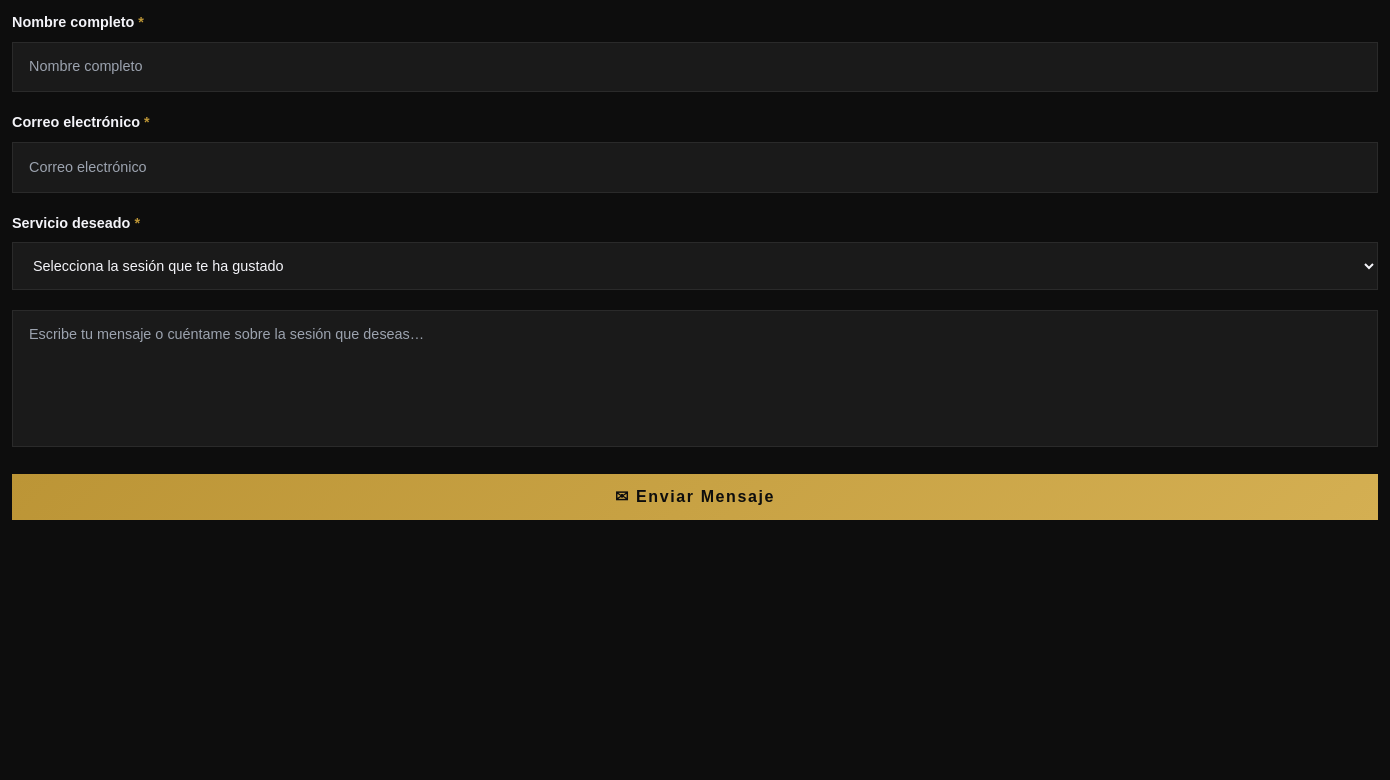
Test case: ContactForm › submits the form when input is valid
Type "Grettel" into the field labelled "Nombre completo *".
click(695, 67); type("Grettel")  # box [12,42,1378,92]
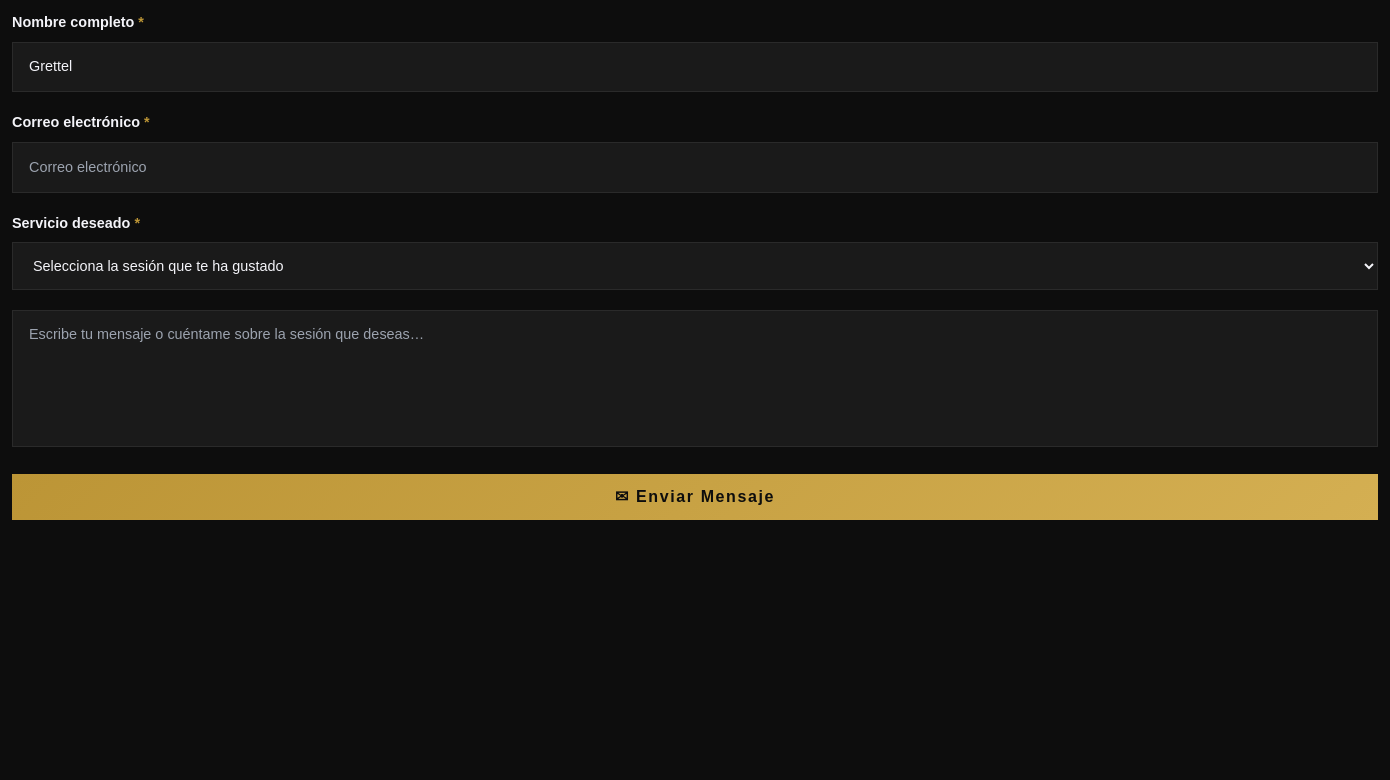
Type "test@example.com" into the field labelled "Correo electrónico *".
click(695, 167); type("test@example.com")  # box [12,142,1378,193]
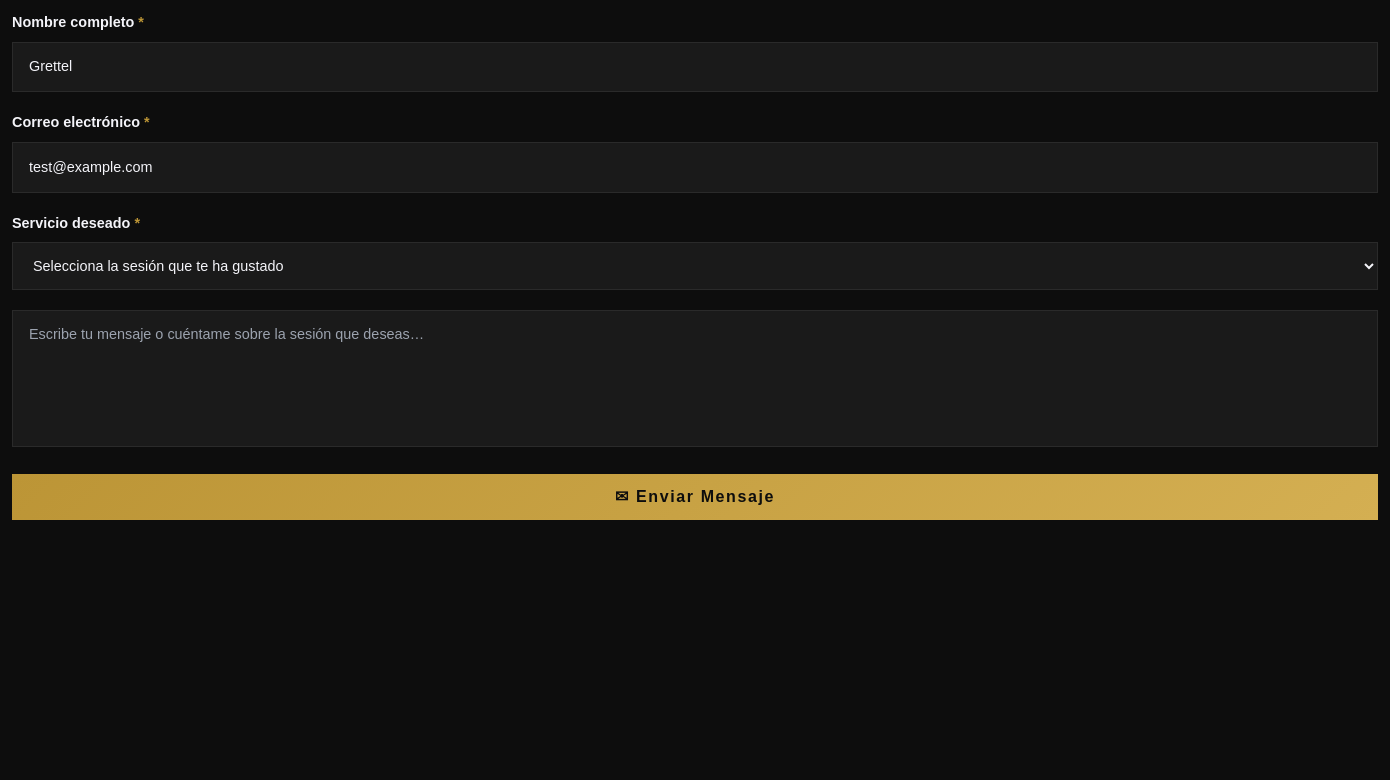
Select "Boudoir & Artístico" in the dropdown labelled "Servicio deseado *" at (695, 266), box [12,242,1378,290]
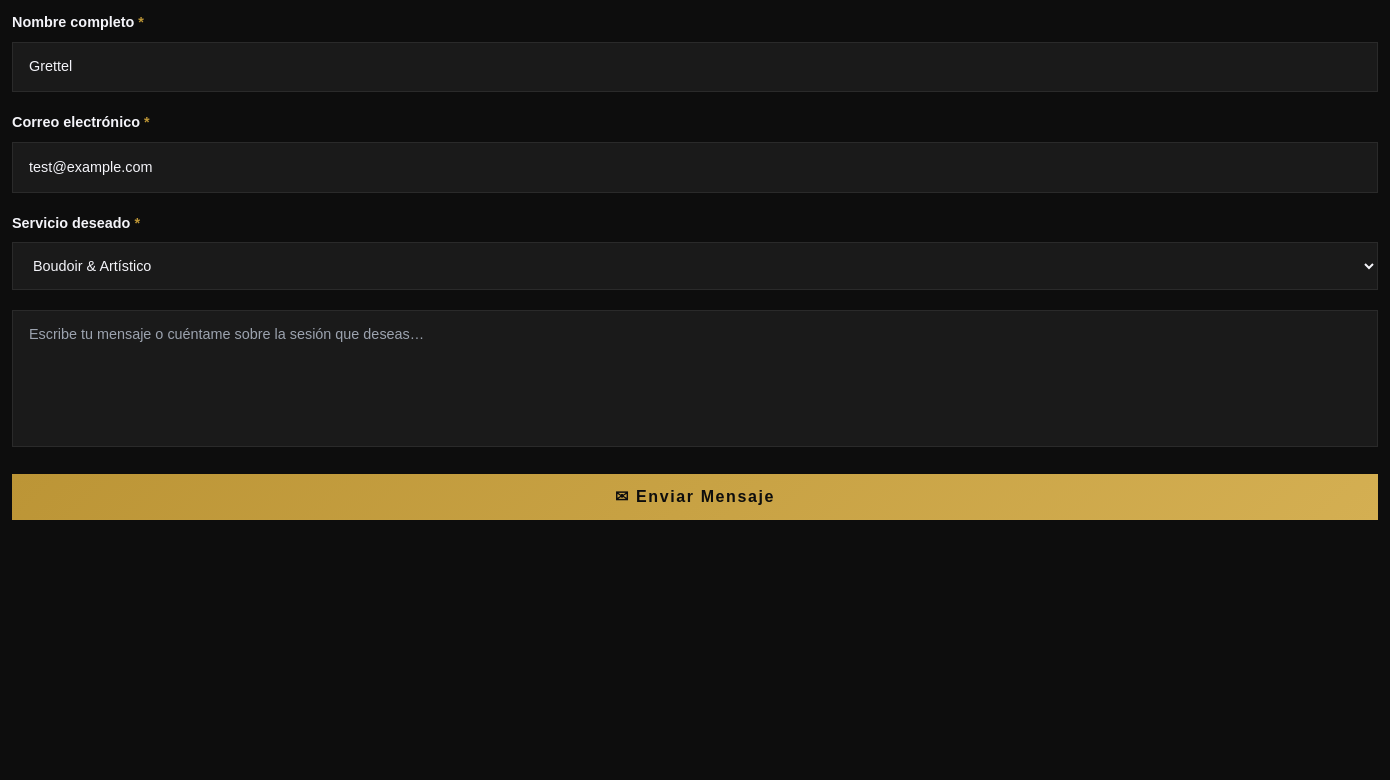
Type "Hola, quiero reservar una sesión." into the text box with placeholder "Escribe tu mensaje o cuéntame sobre la sesión que deseas…".
click(695, 378); type("Hola, quiero reservar una sesión.")  # box [12,310,1378,447]
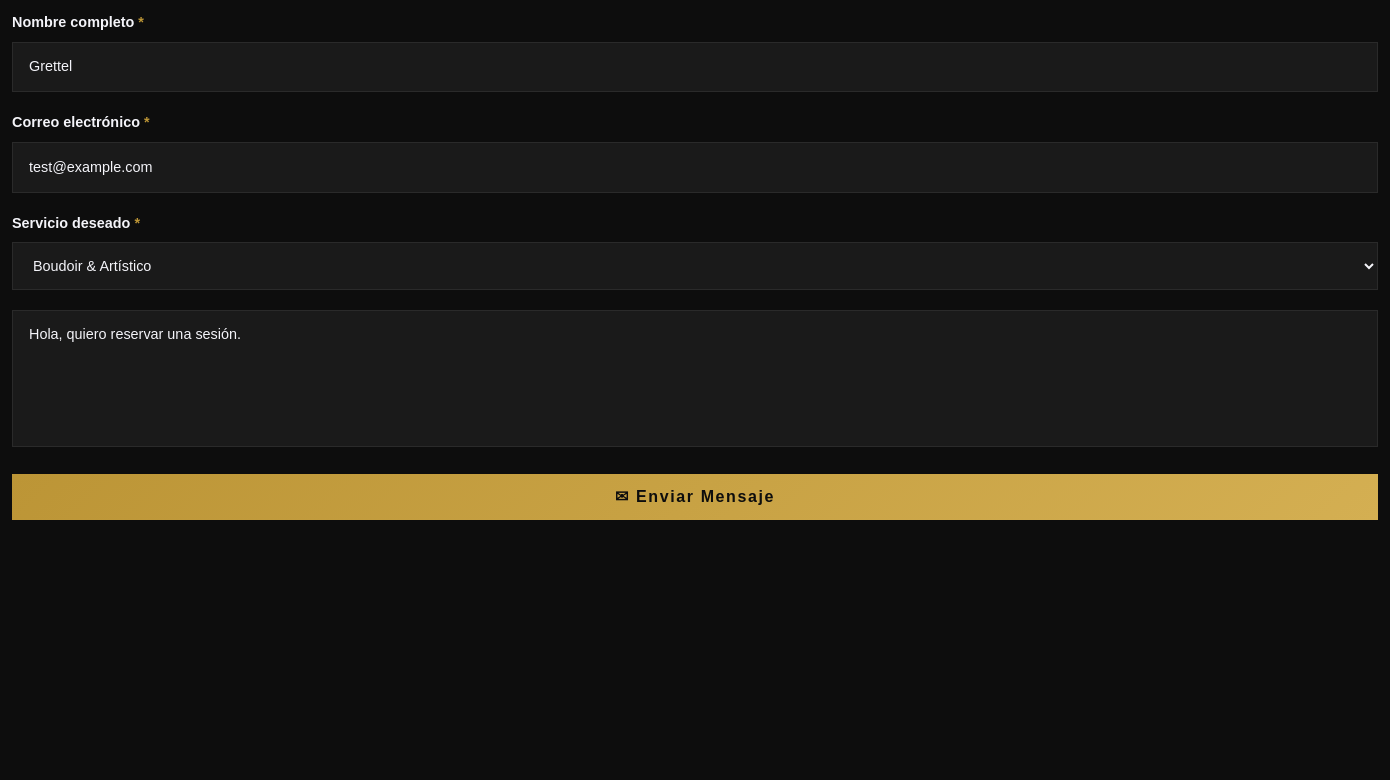
Click the button "✉ Enviar Mensaje".
click(695, 497)  # box [12,474,1378,520]
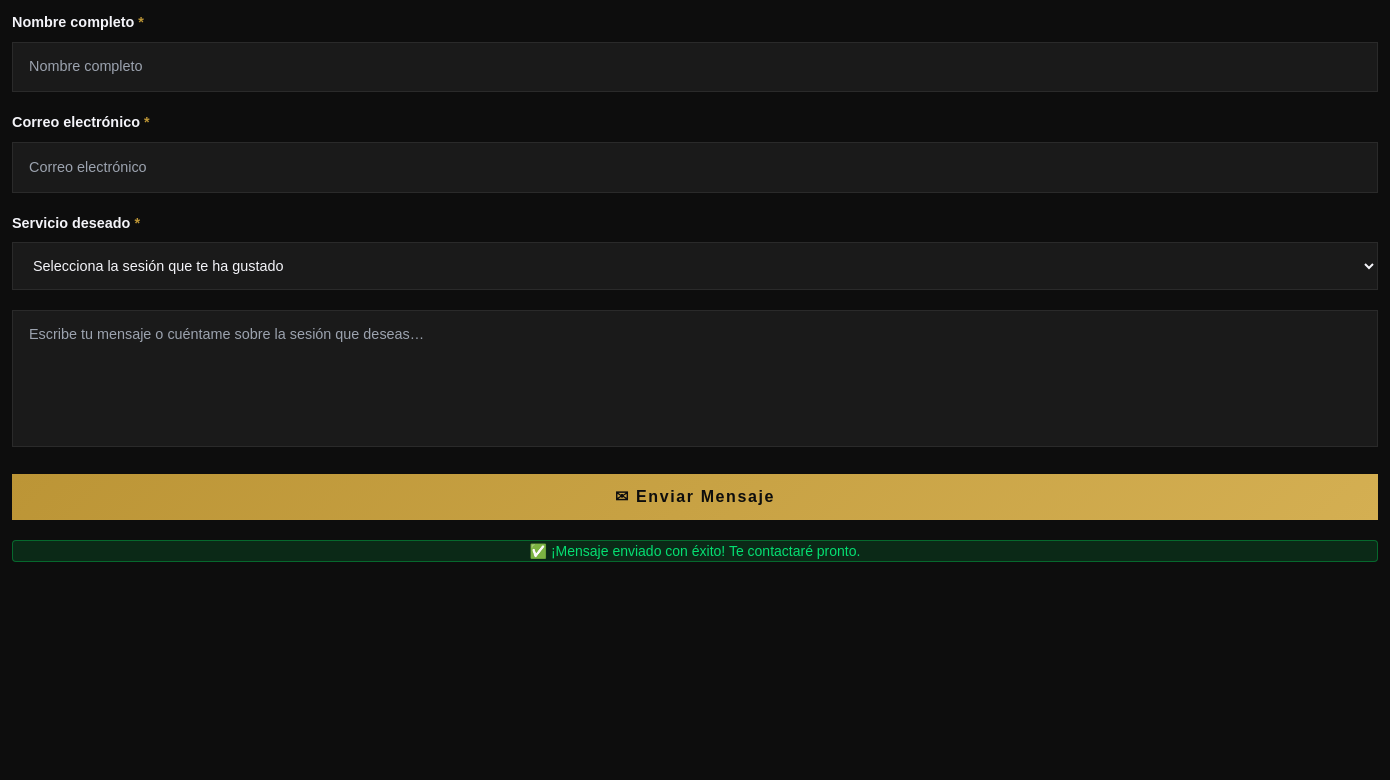
Check: the text "✅ ¡Mensaje enviado con éxito! Te contactaré pronto." is shown, box [12,540,1378,562]
